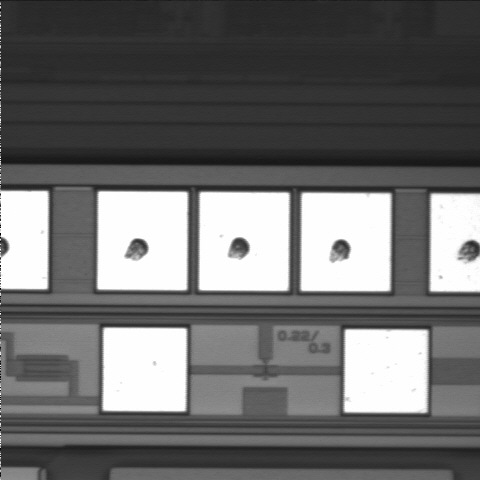pad: (98, 191, 188, 290), (199, 192, 289, 291), (301, 193, 391, 291), (103, 328, 187, 411), (344, 330, 427, 413)
